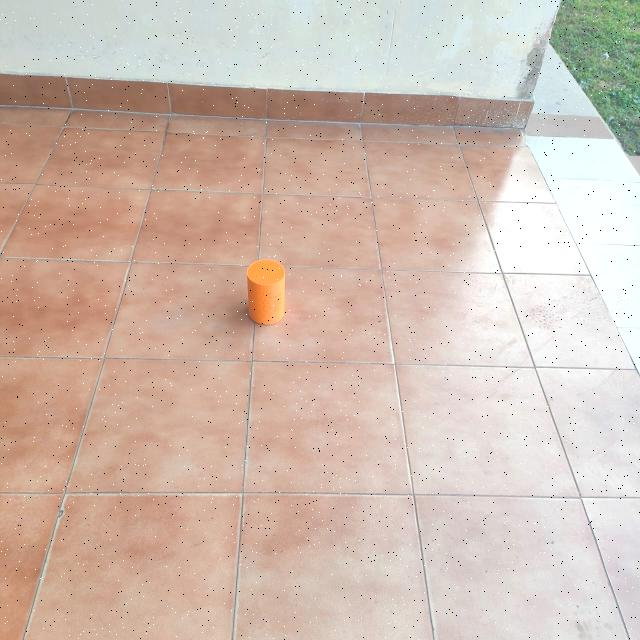Cylinder: (246, 258, 286, 325)
